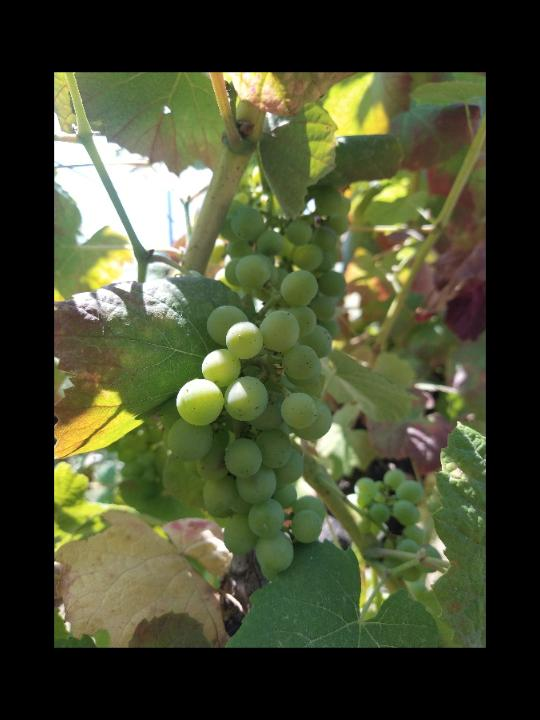grape: (159, 254, 328, 584)
